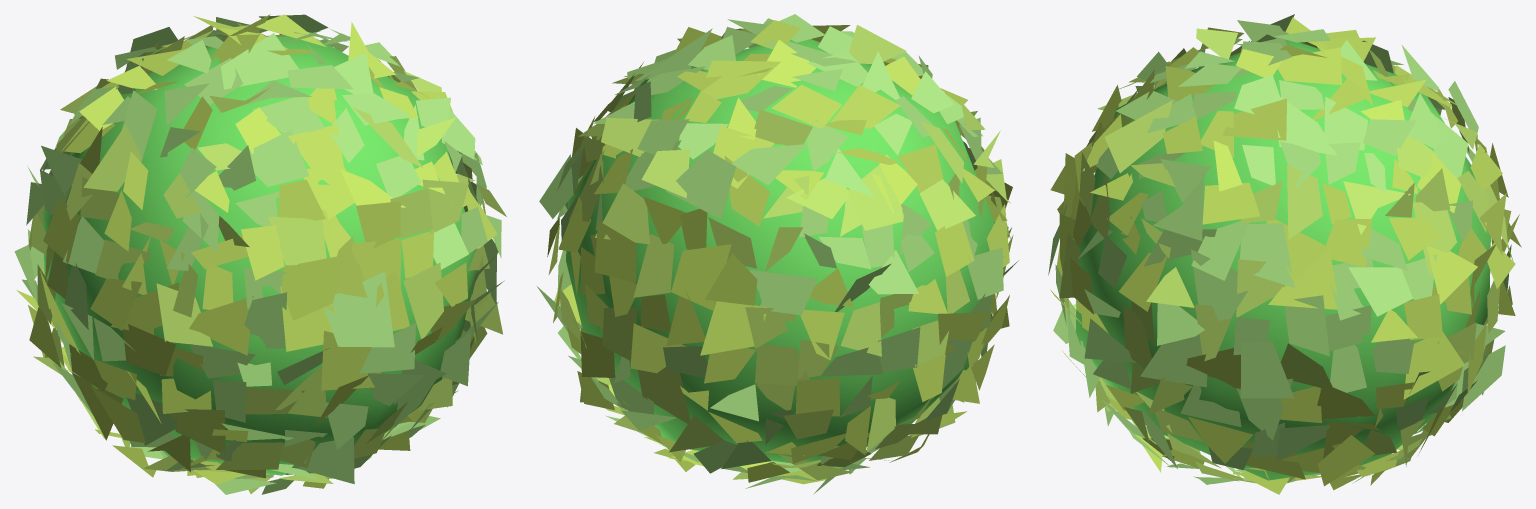
The model's file is Arbust 2.fbx.
3 views of the same model, side by side, from view 1: azimuth 30°, elevation 25°; view 2: azimuth 150°, elevation 25°; view 3: azimuth 270°, elevation 25° (orthographic).
Parts seen in each view (by area): view 1: Cube; view 2: Cube; view 3: Cube.
Part boxes in pixels (<box>): Cube: <box>14,14,506,494</box>; Cube: <box>537,14,1018,494</box>; Cube: <box>1048,14,1521,494</box>.
Bounding box in the file's own units: 1.87 × 1.89 × 1.87.
